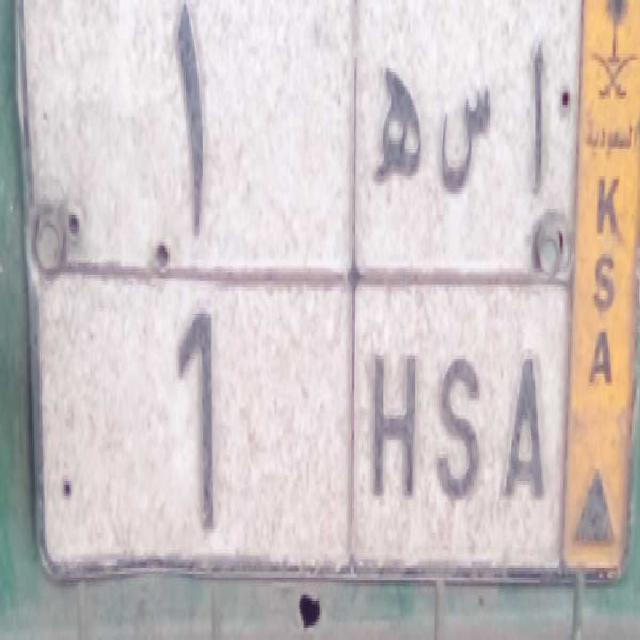license_plate: (33, 263, 568, 578)
